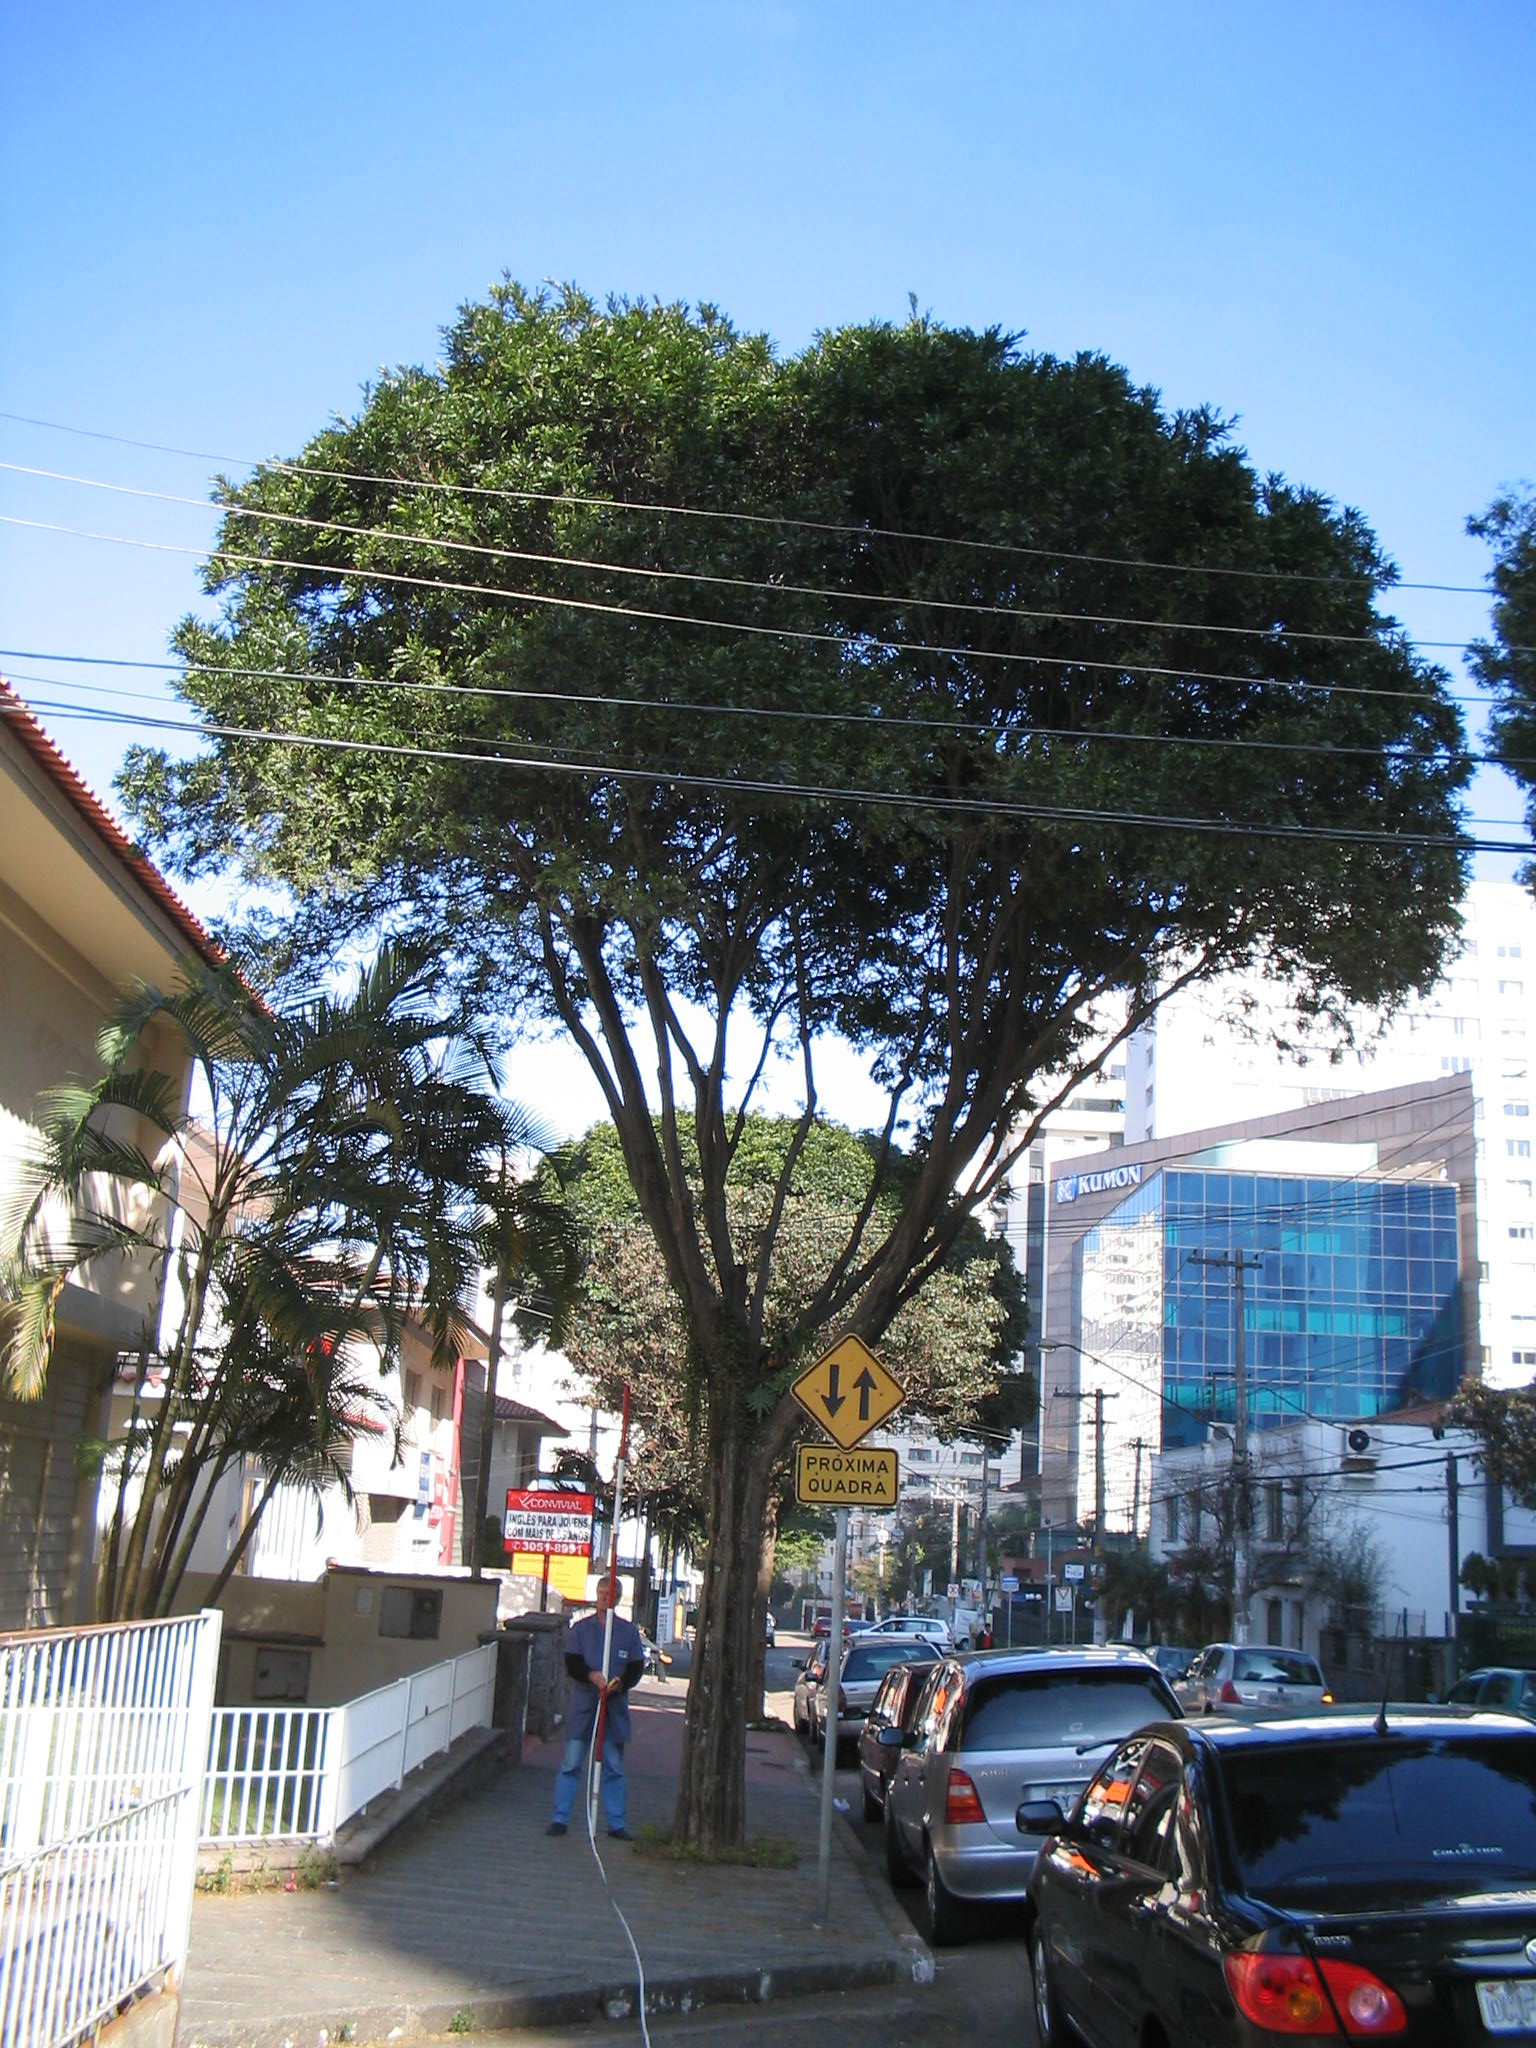crown: (131, 274, 1470, 1079)
stem: (657, 1403, 803, 1858)
stick: (573, 1382, 658, 1838)
tree: (123, 271, 1475, 1863)
